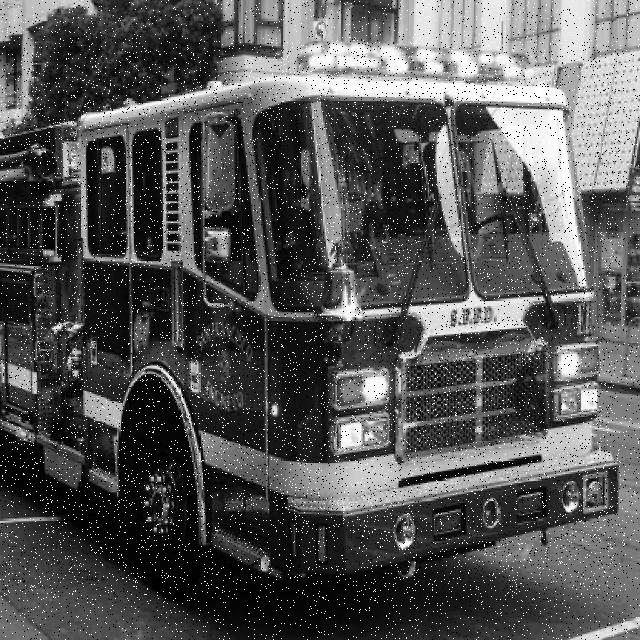Fire Truck: (0, 42, 620, 602)
